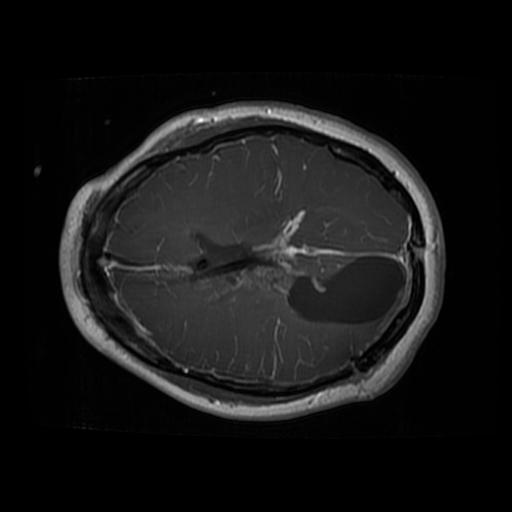glioma: (177, 207, 406, 325)
